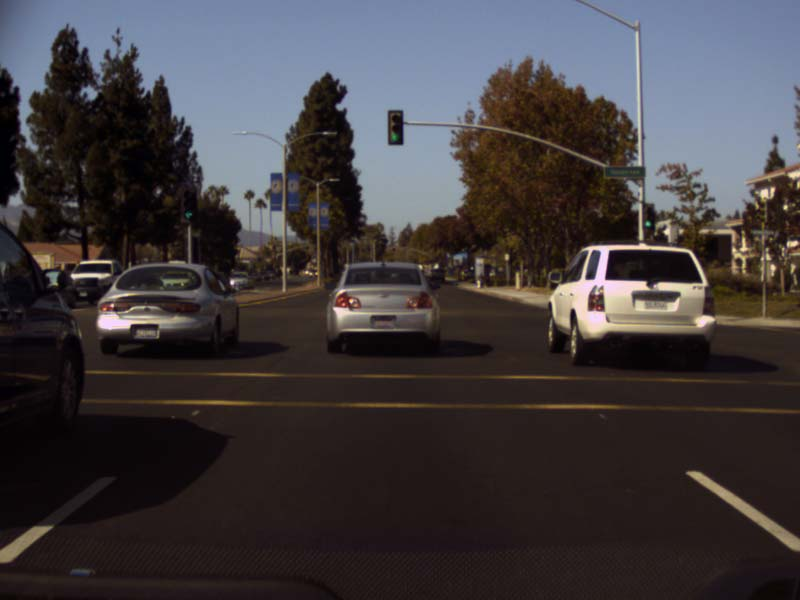Green: (388, 110, 402, 143), (181, 189, 195, 222), (644, 206, 653, 229)
